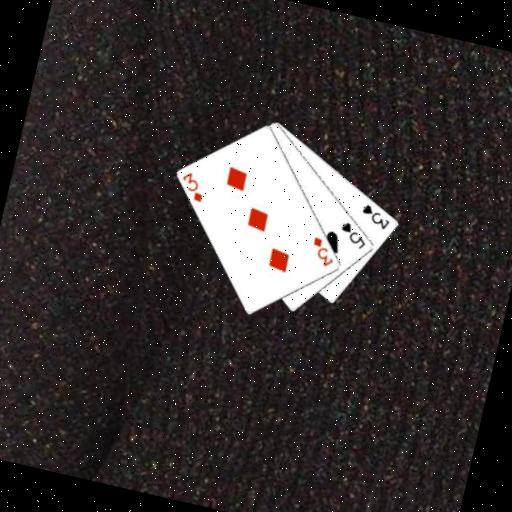3D: (305, 233, 340, 271), (175, 168, 209, 205)
3S: (356, 200, 394, 232)
5S: (335, 217, 372, 251)
